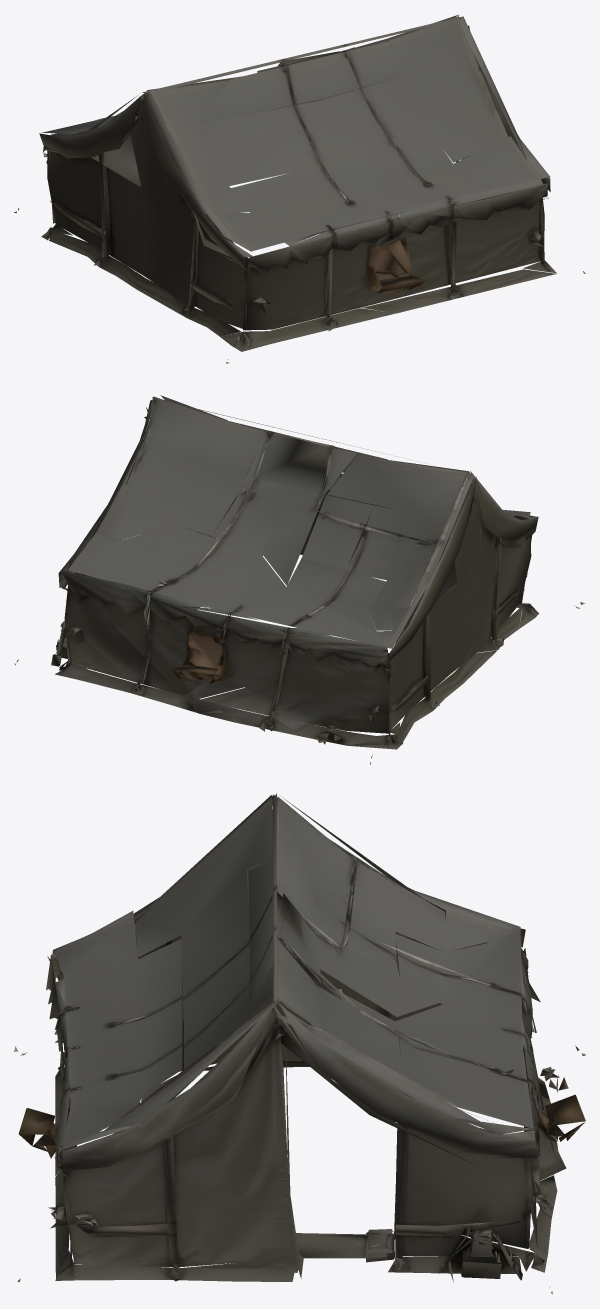
The model's file is ch4_meridian_field_tent_LOD3.glb.
3 renders of one model, top to bottom at view 1: azimuth 30°, elevation 25°; view 2: azimuth 150°, elevation 25°; view 3: azimuth 270°, elevation 25°, orthographic. The views are drawn at different scales.
Parts seen in each view (by area): view 1: tripo_node_1440f594-e552-42cb-9a64-4c4fdd637bb7; view 2: tripo_node_1440f594-e552-42cb-9a64-4c4fdd637bb7; view 3: tripo_node_1440f594-e552-42cb-9a64-4c4fdd637bb7.
Boxes of the visible parts, x1,y1,x2,y2 form: tripo_node_1440f594-e552-42cb-9a64-4c4fdd637bb7: [14, 14, 585, 363]; tripo_node_1440f594-e552-42cb-9a64-4c4fdd637bb7: [14, 395, 585, 764]; tripo_node_1440f594-e552-42cb-9a64-4c4fdd637bb7: [14, 793, 585, 1294].
Bounding box in the file's own units: 0.973 × 0.526 × 0.9746.
Materials: 1 (1 with a texture image).
